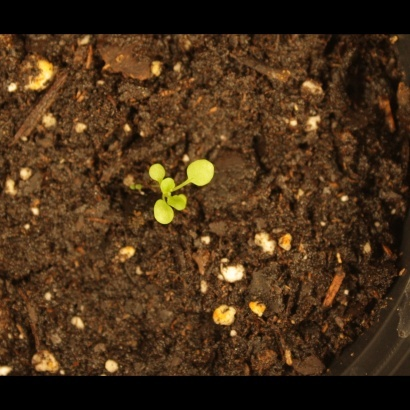leaf: (186, 156, 219, 188), (152, 200, 177, 227), (147, 162, 170, 185), (157, 176, 180, 199), (166, 192, 189, 215)
